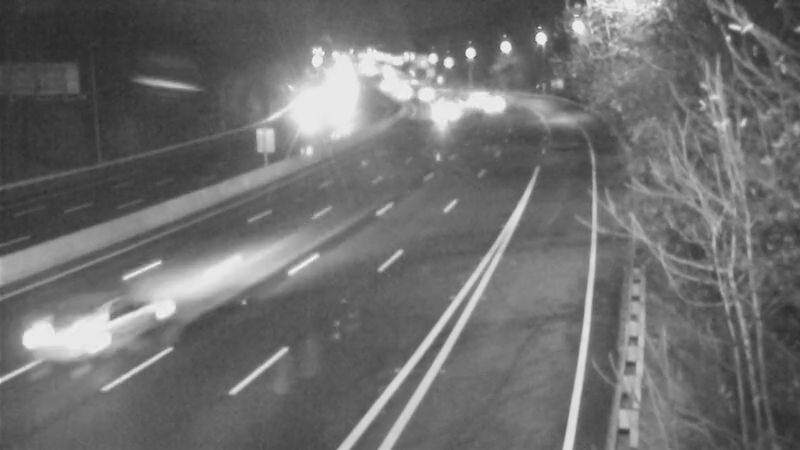vehicle: (4, 281, 114, 391), (451, 65, 501, 115), (464, 81, 514, 131), (424, 90, 474, 140)
